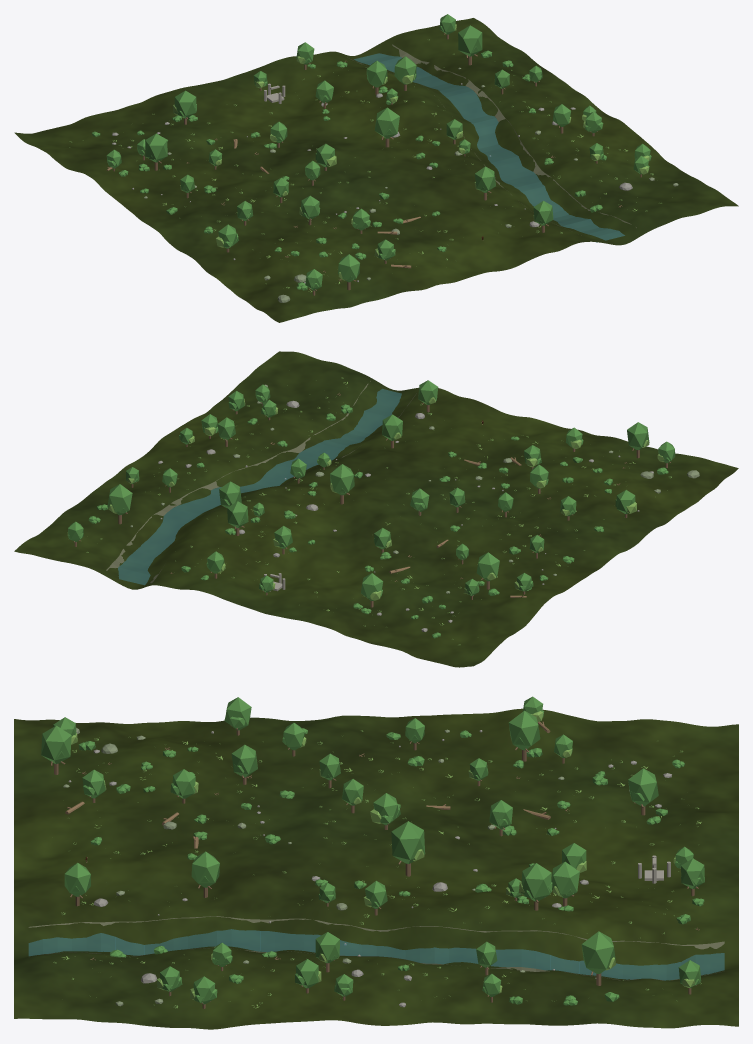
The model's file is JungleLevel.glb.
The picture shows the model from 3 angles, top to bottom: view 1: azimuth 30°, elevation 25°; view 2: azimuth 150°, elevation 25°; view 3: azimuth 270°, elevation 25°; orthographic projection. The views are drawn at different scales.
Visible parts, largest first — view 1: Terrain, River_Water, RiverBank_R, tree_006.002, tree_000.002, tree_010.002, tree_004.001, tree_004.002, tree_008.001; view 2: Terrain, River_Water, RiverBank_R, tree_000.002, tree_006.002, tree_010.002, tree_004.002; view 3: Terrain, River_Water, tree_000.002, RiverBank_L, tree_006.002, tree_008.001, tree_004.002, tree_010.002, tree_004.001, tree_001.002, tree_009.002, tree_005.002 (+9 smaller).
Part boxes in pixels (x1=…): Terrain: x1=14, y1=18, x2=738, y2=322; River_Water: x1=354, y1=53, x2=624, y2=242; RiverBank_R: x1=392, y1=44, x2=636, y2=227; tree_006.002: x1=458, y1=25, x2=482, y2=65; tree_000.002: x1=374, y1=107, x2=399, y2=147; tree_010.002: x1=144, y1=133, x2=167, y2=170; tree_004.001: x1=173, y1=90, x2=196, y2=124; tree_004.002: x1=338, y1=254, x2=359, y2=290; tree_008.001: x1=394, y1=56, x2=416, y2=90; Terrain: x1=14, y1=351, x2=738, y2=667; River_Water: x1=118, y1=389, x2=401, y2=585; RiverBank_R: x1=106, y1=381, x2=370, y2=570; tree_000.002: x1=330, y1=464, x2=354, y2=504; tree_006.002: x1=107, y1=484, x2=132, y2=524; tree_010.002: x1=476, y1=552, x2=499, y2=589; tree_004.002: x1=627, y1=422, x2=649, y2=458; Terrain: x1=14, y1=708, x2=738, y2=1029; River_Water: x1=28, y1=929, x2=724, y2=980; tree_000.002: x1=391, y1=821, x2=425, y2=876; RiverBank_L: x1=28, y1=916, x2=724, y2=949; tree_006.002: x1=581, y1=931, x2=615, y2=985; tree_008.001: x1=519, y1=863, x2=552, y2=910; tree_004.002: x1=41, y1=725, x2=71, y2=774; tree_010.002: x1=508, y1=710, x2=540, y2=761; tree_004.001: x1=628, y1=768, x2=658, y2=815; tree_001.002: x1=551, y1=861, x2=579, y2=906; tree_009.002: x1=191, y1=851, x2=219, y2=897; tree_005.002: x1=64, y1=862, x2=90, y2=906.
Size of the model in its own units: 120 by 16.01 by 120.
Materials: 19 (2 with a texture image).
